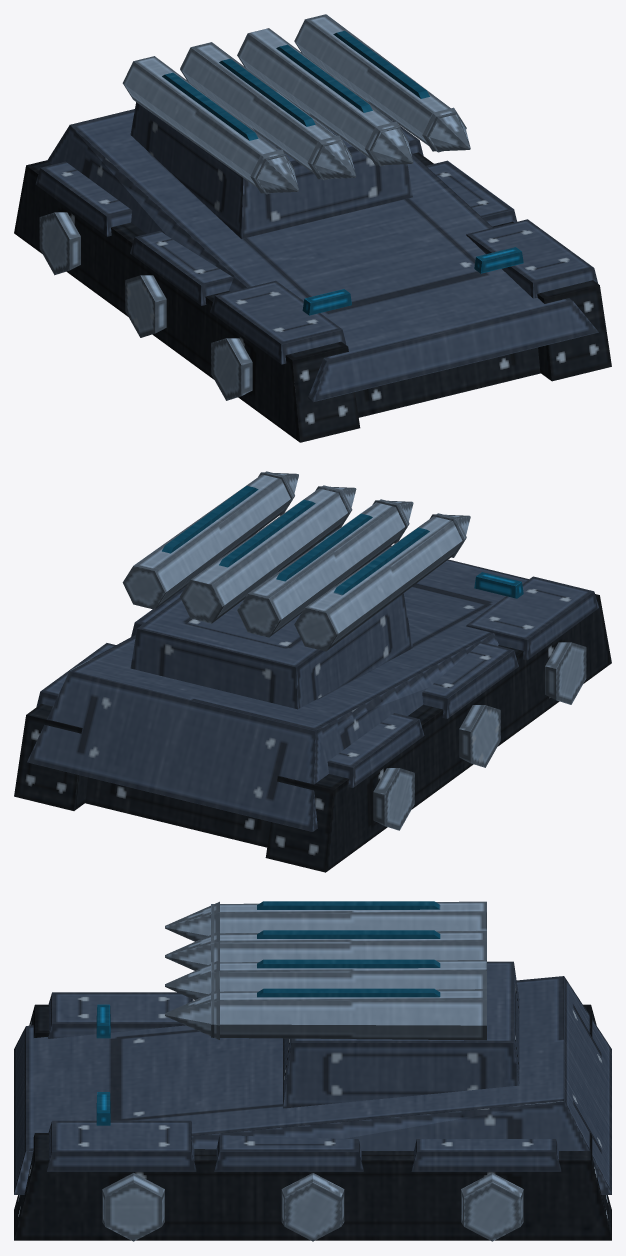
Rendered from unit-mlrs.fbx.
3 views of the same model, one above another, from view 1: azimuth 30°, elevation 25°; view 2: azimuth 150°, elevation 25°; view 3: azimuth 270°, elevation 25° (orthographic). The views are drawn at different scales.
Visible parts, largest first — view 1: unit-mlrs; view 2: unit-mlrs; view 3: unit-mlrs.
Part boxes in pixels (<box>): unit-mlrs: <box>14,14,611,442</box>; unit-mlrs: <box>14,471,611,872</box>; unit-mlrs: <box>14,901,611,1241</box>.
Bounding box in the file's own units: 362 × 206 × 520.
Materials: 1 (1 with a texture image).
